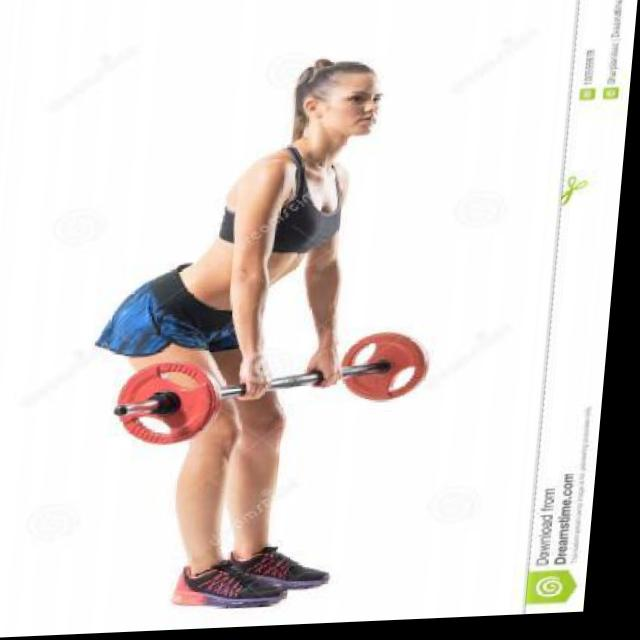barbell: (112, 360, 231, 455)
